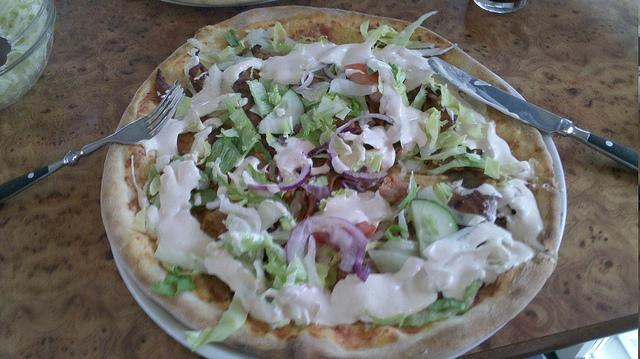cucumber: (412, 199, 458, 255), (258, 89, 306, 134)
lettuce: (364, 278, 484, 328), (184, 296, 250, 352), (219, 194, 261, 245), (368, 236, 420, 273), (150, 262, 200, 300), (204, 138, 242, 186), (294, 106, 338, 146), (229, 108, 261, 151), (391, 170, 422, 214), (378, 66, 410, 108), (246, 80, 275, 118), (258, 200, 288, 232), (414, 145, 467, 161), (272, 21, 294, 57), (217, 173, 244, 197), (426, 113, 440, 150), (434, 182, 453, 207), (383, 225, 408, 240), (222, 29, 239, 47), (348, 99, 360, 118), (381, 26, 400, 38), (269, 84, 279, 106), (424, 107, 439, 115)
onion: (286, 215, 372, 282), (328, 114, 394, 182), (247, 164, 312, 192), (310, 152, 332, 176), (307, 142, 329, 158), (322, 64, 337, 81)
